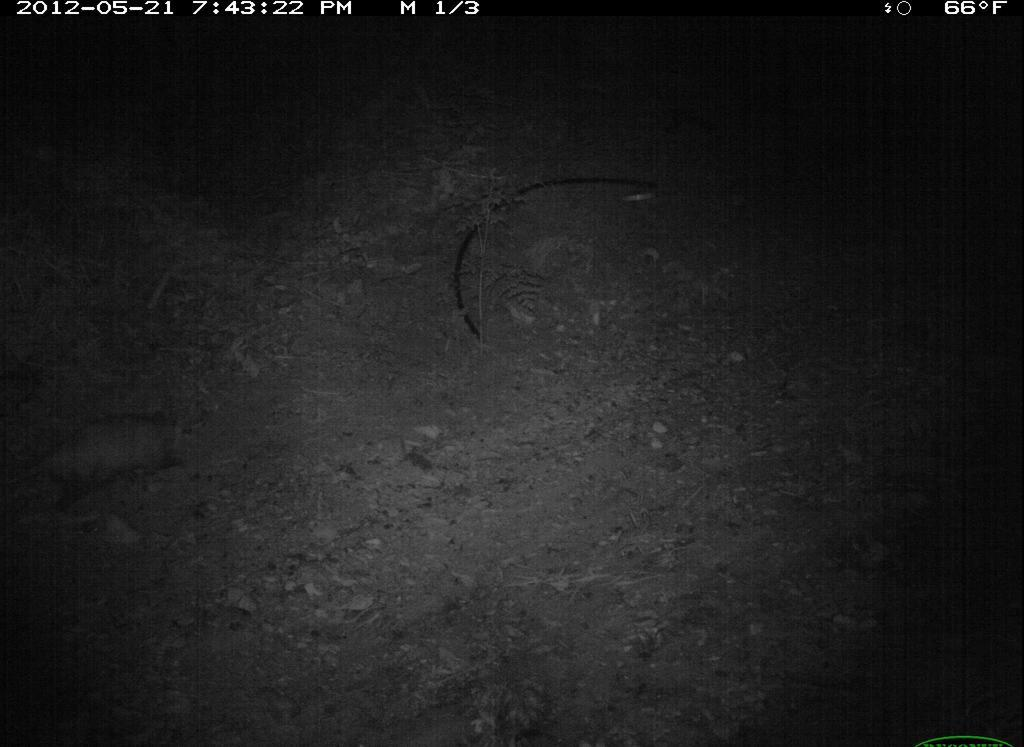opossum: (6, 397, 208, 521)
